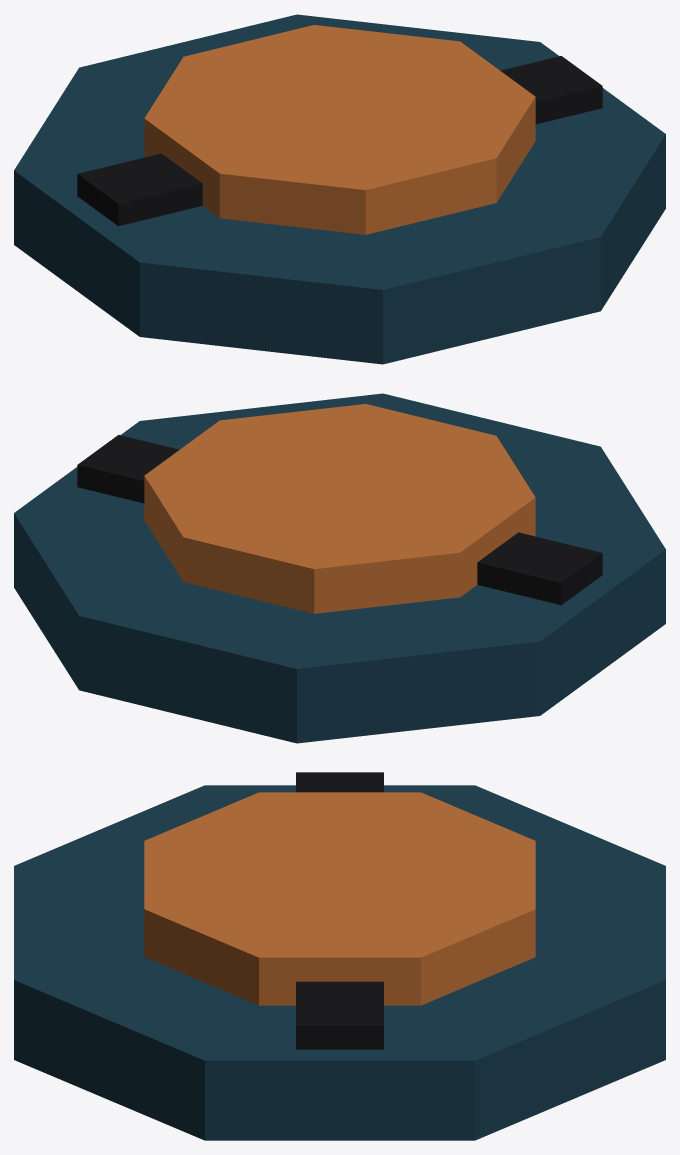
File: splitter_hub.obj
3 views of the same model, one above another, from view 1: azimuth 30°, elevation 25°; view 2: azimuth 150°, elevation 25°; view 3: azimuth 270°, elevation 25° (orthographic). The views are drawn at different scales.
Parts seen in each view (by area): view 1: Body; view 2: Body; view 3: Body.
Part boxes in pixels (x1,y1,x2,y2): Body: [14, 14, 665, 364]; Body: [14, 393, 665, 743]; Body: [14, 772, 665, 1140].
Size of the model in its own units: 0.3696 by 0.08 by 0.3696.
